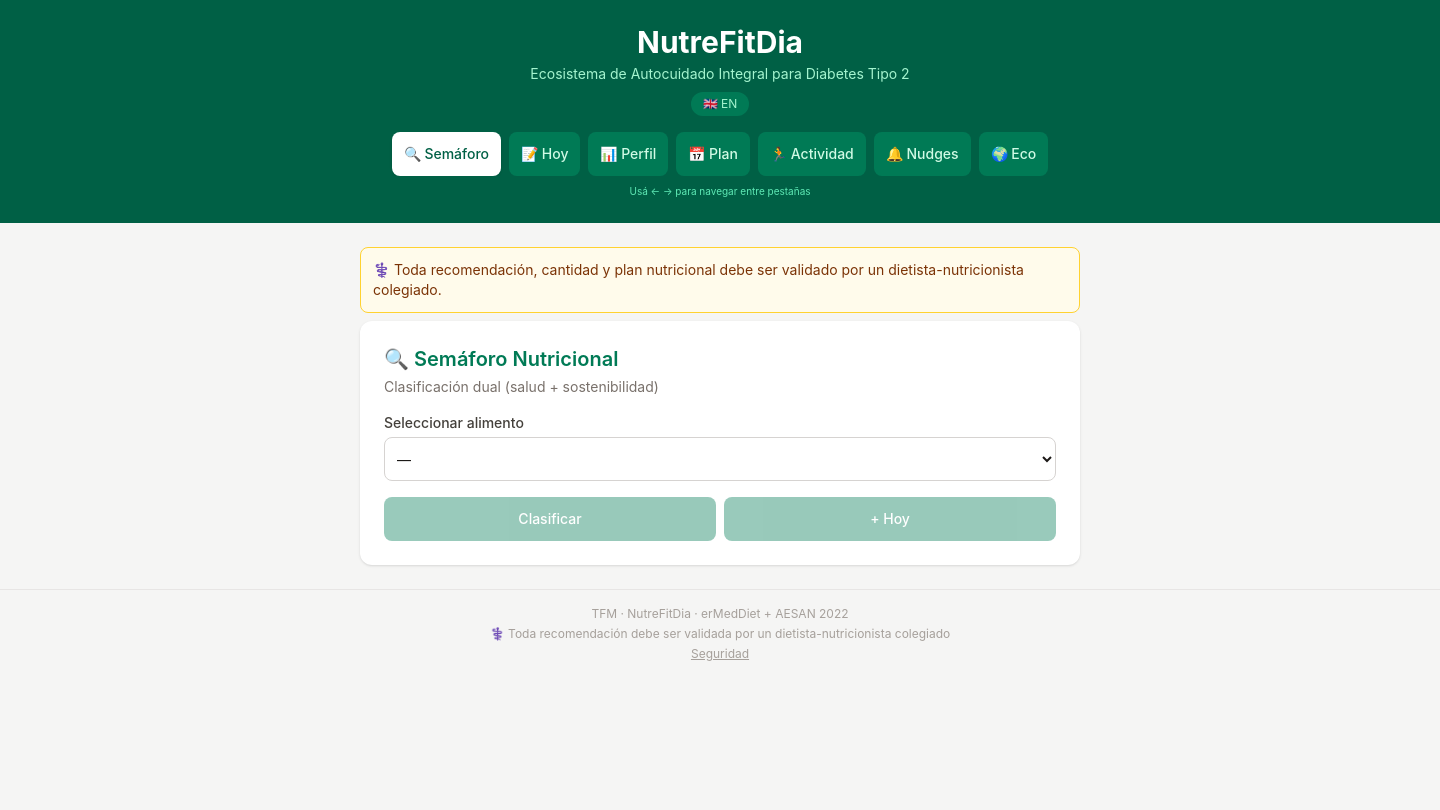
Test case: App › toggles locale from ES to EN when button is clicked
Click the button "🇬🇧 EN" at [720, 104], box [691, 92, 749, 116]
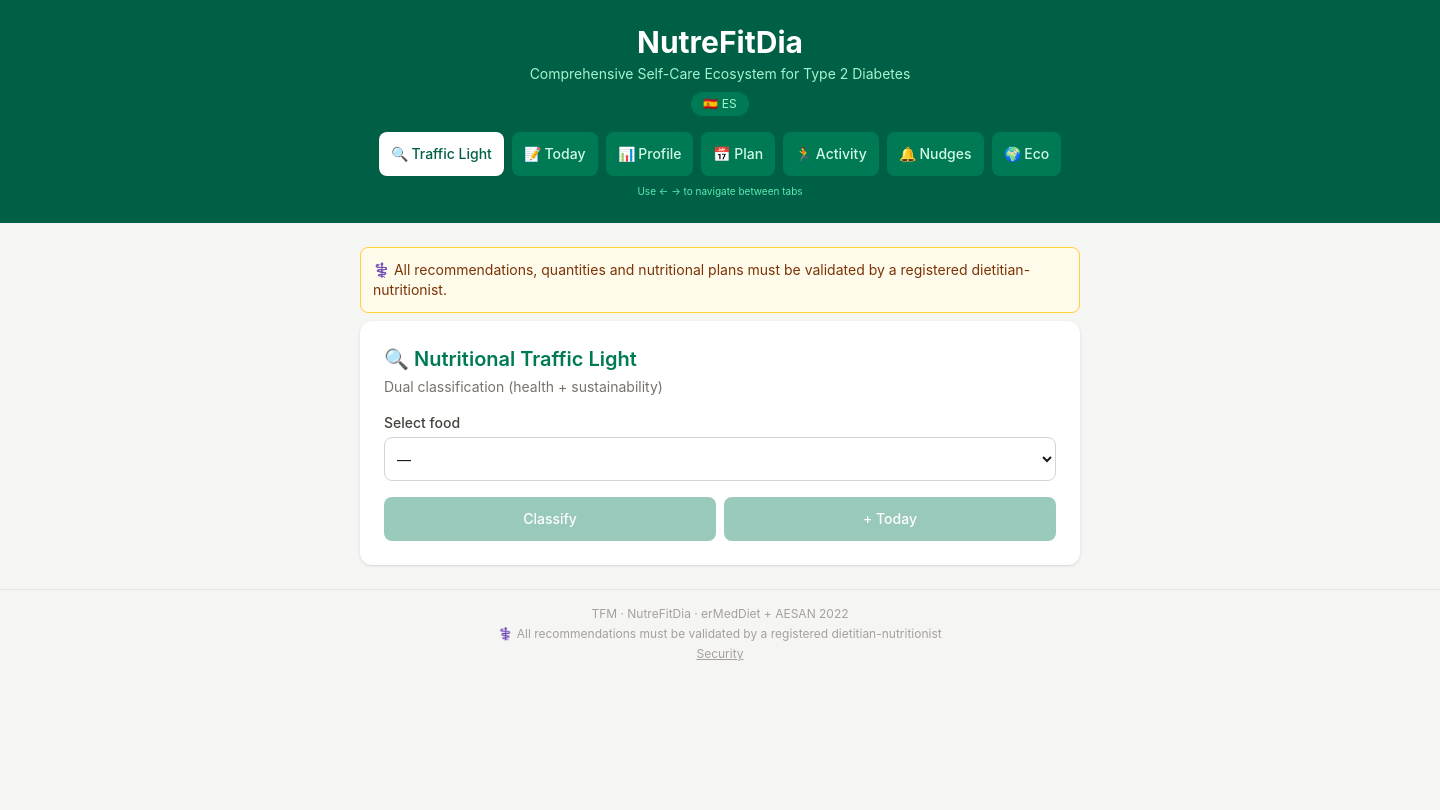
Check: the button "🇪🇸 ES" is shown, box [691, 92, 749, 116]
Check: the button "🇬🇧 EN" is gone
